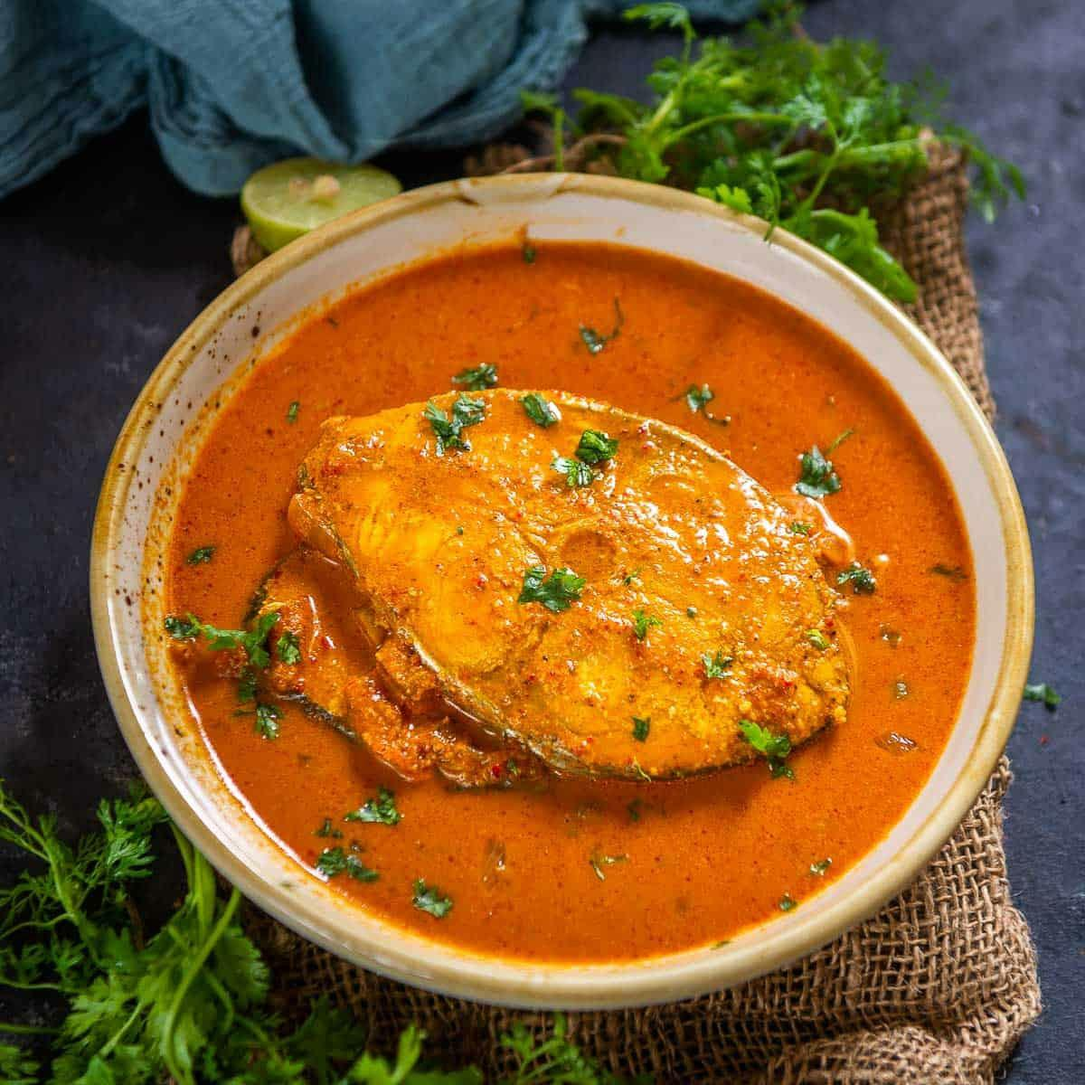FishCurry: (168, 241, 974, 955)
